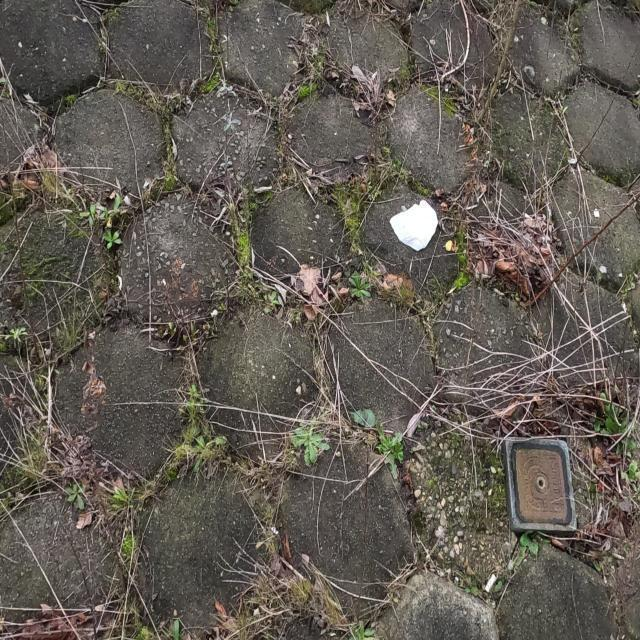Paper: (388, 196, 439, 254)
